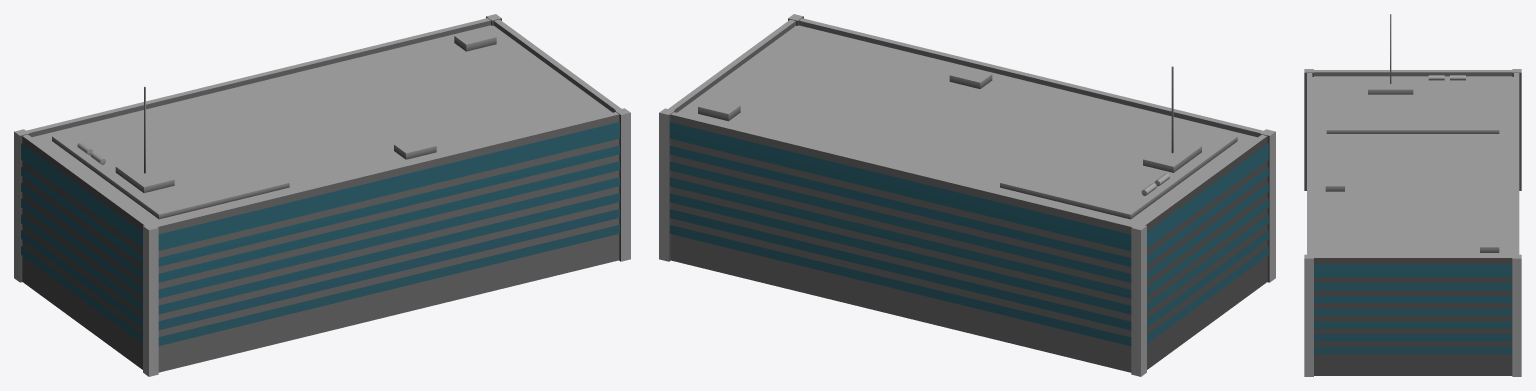
3 views of the same model, side by side, from view 1: azimuth 30°, elevation 25°; view 2: azimuth 150°, elevation 25°; view 3: azimuth 270°, elevation 25° (orthographic). The views are drawn at different scales.
Parts seen in each view (by area): view 1: base.176; view 2: base.176; view 3: base.176.
Part boxes in pixels (box(x1,y1,x2,y2)): base.176: box(14, 14, 630, 376); base.176: box(659, 14, 1275, 376); base.176: box(1304, 14, 1521, 376).
Bounding box in the file's own units: 0.5 × 0.2366 × 0.2423.
